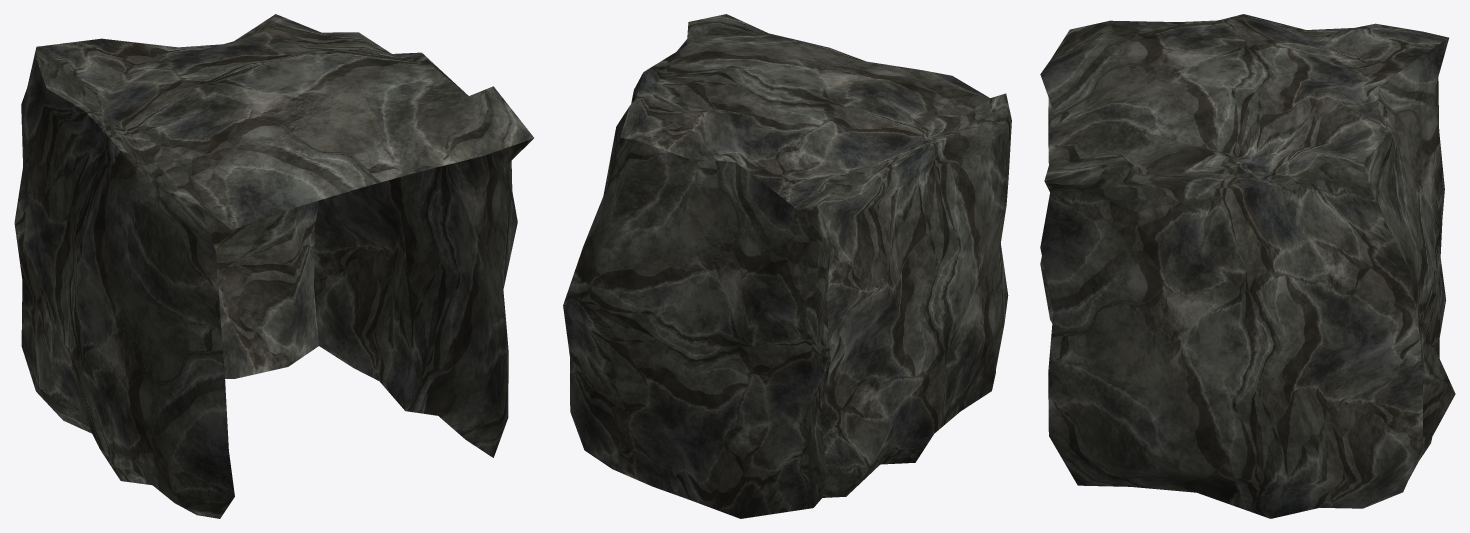
Rendered from CliffABC4x4.fbx.
3 renders of one model, left to right at view 1: azimuth 30°, elevation 25°; view 2: azimuth 150°, elevation 25°; view 3: azimuth 270°, elevation 25°, orthographic. The views are drawn at different scales.
Visible parts, largest first — view 1: CliffABC4x4; view 2: CliffABC4x4; view 3: CliffABC4x4.
Part boxes in pixels (x1,y1,x2,y2): CliffABC4x4: [14, 14, 533, 518]; CliffABC4x4: [563, 14, 1011, 518]; CliffABC4x4: [1040, 14, 1455, 518].
Size of the model in its own units: 5.25 by 5.24 by 5.16.
